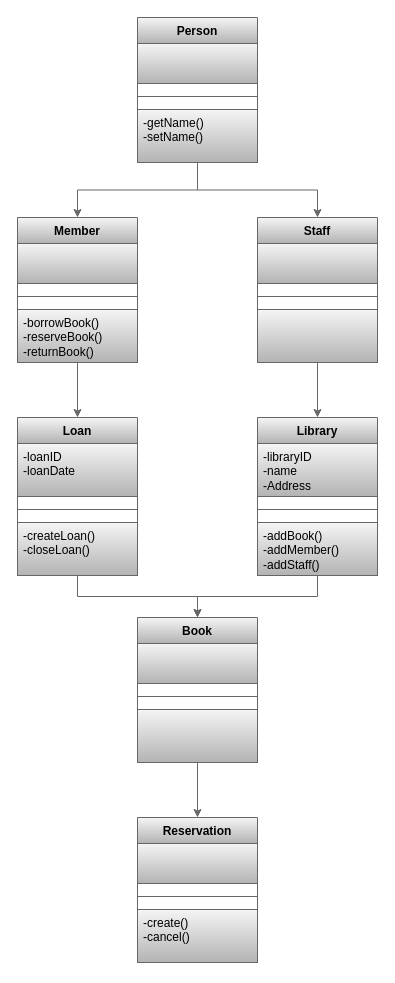
Image size: 395x983. Some labels were removed from this diagram. Each missing label, with the box of its shape:
- PersonID -Name: (136, 42, 258, 84)
-bookID -tittle: (136, 642, 258, 684)
-borrow() -returnBook() -reserve(): (136, 708, 258, 762)
-manageMember() -issueBook() -manageBooks(): (256, 308, 378, 362)
-MemberID: (16, 242, 138, 284)
-reservationID -reservationDate: (136, 842, 258, 884)
-staffID -role: (256, 242, 378, 284)
